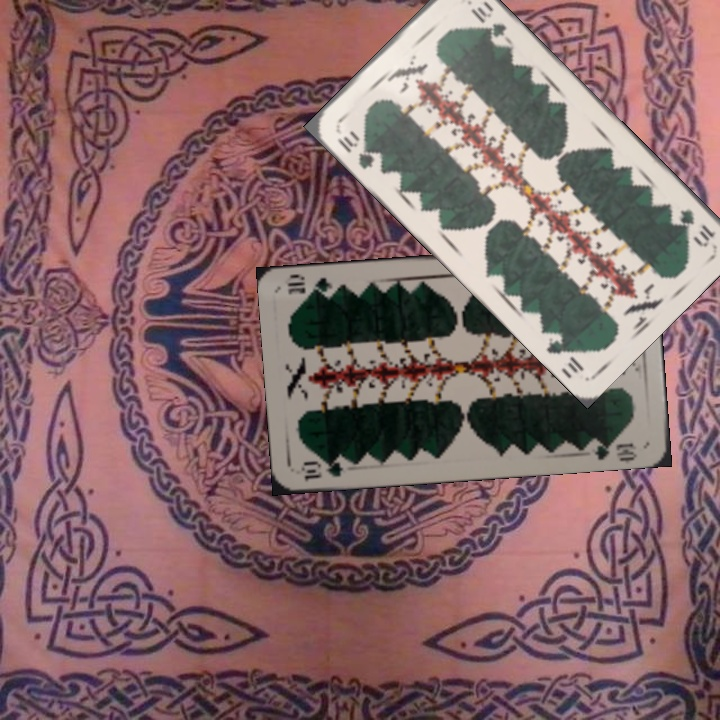G10: (332, 126, 385, 172), (675, 205, 718, 250), (296, 455, 346, 482)
